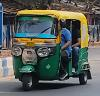Auto: (11, 8, 91, 91)
